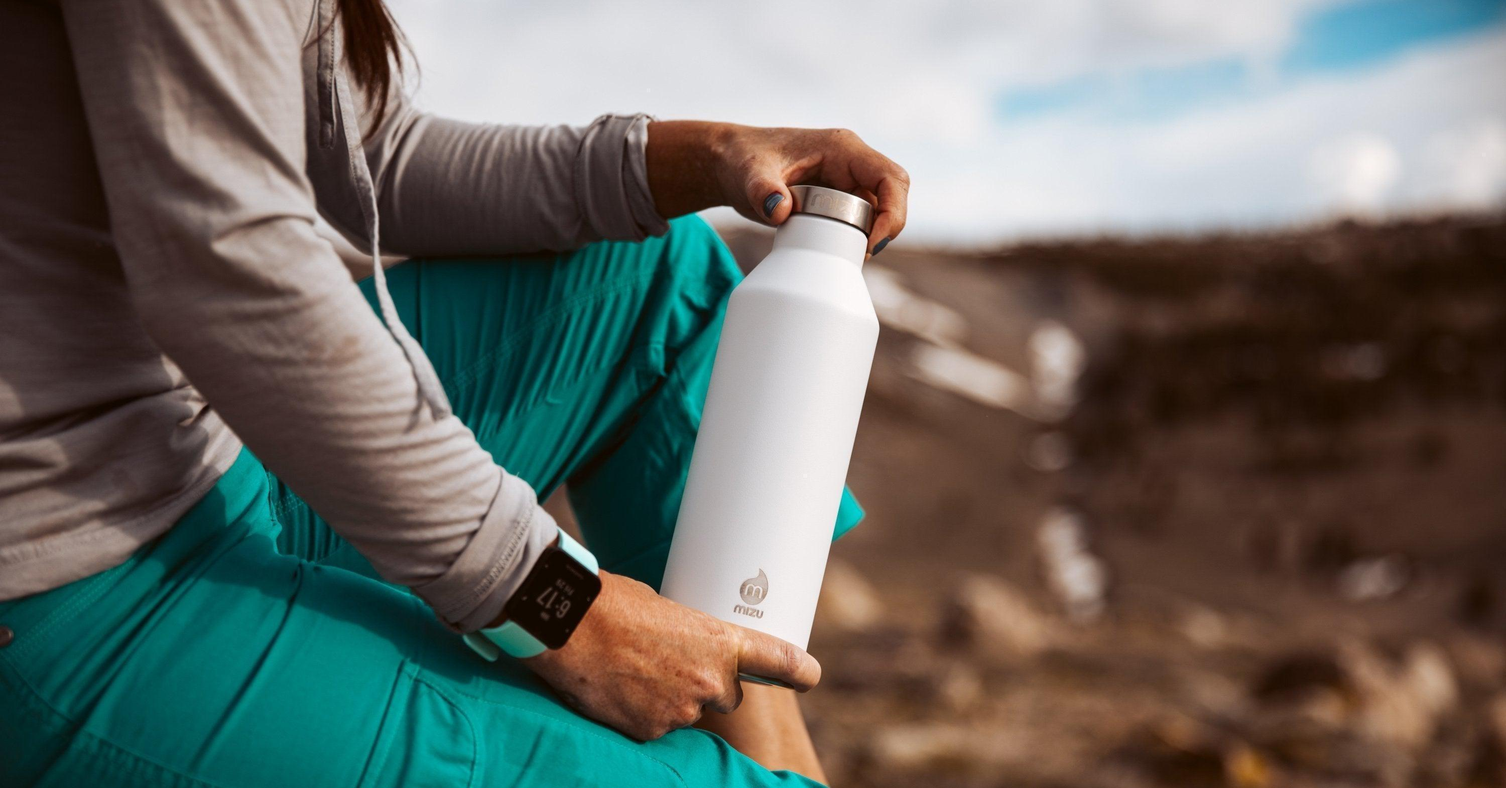gym bottle: (655, 176, 885, 646)
